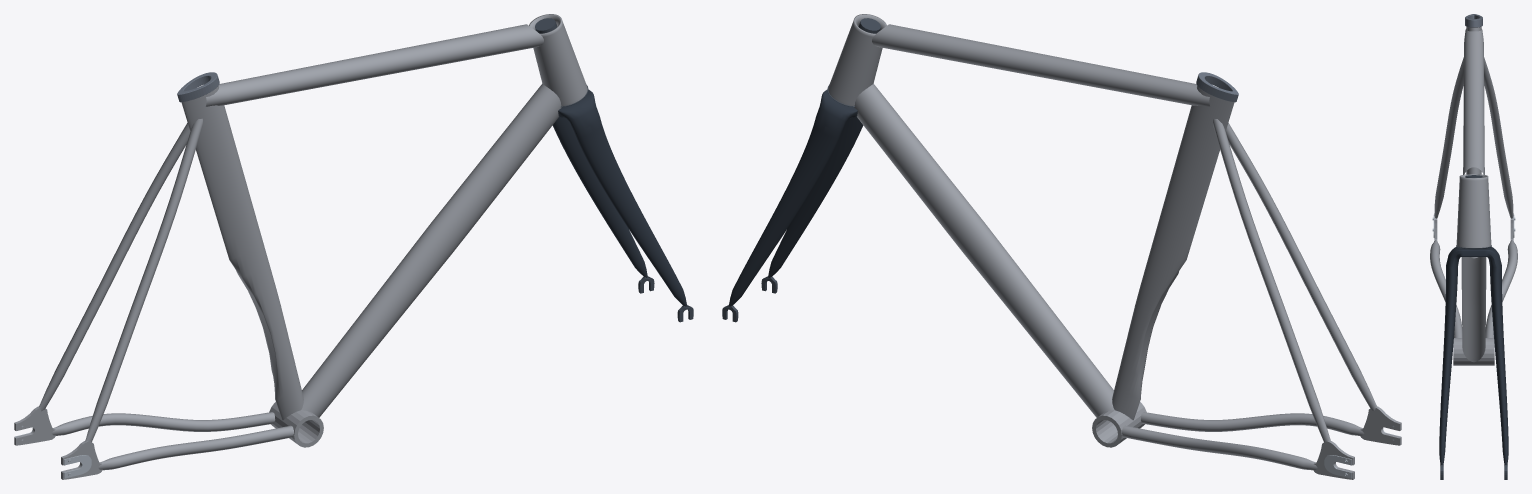
File: cinelli-vigorelli-rainbow-s.glb
The picture shows the model from 3 angles, left to right: view 1: azimuth 30°, elevation 25°; view 2: azimuth 150°, elevation 25°; view 3: azimuth 270°, elevation 25°; orthographic projection. The views are drawn at different scales.
Parts seen in each view (by area): view 1: paint_down, paint_seat, paint_top, fork_blade_1, paint_seatstay_1, paint_seatstay_-1, paint_head, fork_blade_-1, paint_chainstay_-1, paint_chainstay_1, paint_bottom_bracket, rear_dropout_-1 (+3 smaller); view 2: paint_down, paint_seat, paint_top, fork_blade_-1, paint_seatstay_-1, paint_seatstay_1, paint_head, fork_blade_1, paint_chainstay_1, paint_chainstay_-1, paint_bottom_bracket, rear_dropout_1 (+3 smaller); view 3: paint_top, paint_down, paint_head, fork_blade_1, fork_blade_-1, paint_seatstay_-1, paint_seatstay_1, paint_bottom_bracket, paint_chainstay_-1, paint_chainstay_1, fork_crown, seat_collar (+1 smaller).
Boxes of the visible parts, x1,y1,x2,y2 form: paint_down: (301,83,561,417); paint_seat: (181,86,303,420); paint_top: (206,24,543,106); fork_blade_1: (574,118,686,306); paint_seatstay_1: (85,118,202,441); paint_seatstay_-1: (38,123,190,411); paint_head: (529,14,587,106); fork_blade_-1: (552,116,647,277); paint_chainstay_-1: (51,412,275,435); paint_chainstay_1: (98,425,293,470); paint_bottom_bracket: (269,402,323,447); rear_dropout_-1: (14,406,55,445); paint_down: (854,83,1114,417); paint_seat: (1112,86,1234,420); paint_top: (872,24,1209,106); fork_blade_-1: (729,118,841,306); paint_seatstay_-1: (1213,118,1330,441); paint_seatstay_1: (1225,123,1377,411); paint_head: (828,14,886,106); fork_blade_1: (768,116,863,277); paint_chainstay_1: (1141,412,1364,435); paint_chainstay_-1: (1122,425,1317,470); paint_bottom_bracket: (1092,402,1146,447); rear_dropout_1: (1360,406,1401,445); paint_top: (1463,29,1484,174); paint_down: (1461,257,1486,362); paint_head: (1456,174,1491,247); fork_blade_1: (1439,266,1457,465); fork_blade_-1: (1490,266,1508,465); paint_seatstay_-1: (1484,57,1513,218); paint_seatstay_1: (1434,57,1463,218); paint_bottom_bracket: (1453,338,1494,365); paint_chainstay_-1: (1485,240,1517,337); paint_chainstay_1: (1430,240,1462,337); fork_crown: (1446,247,1501,267); seat_collar: (1465,14,1482,27).
Size of the model in its own units: 0.9792 by 0.5665 by 0.1443.
